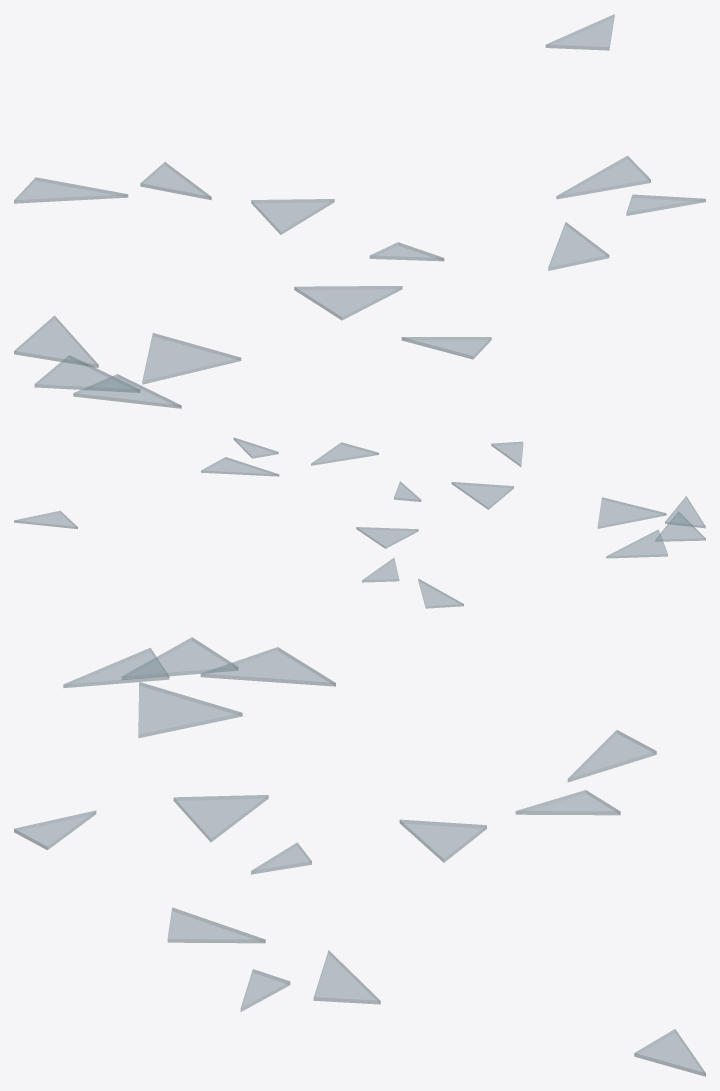
The model's file is shards.glb.
The picture shows the model from 3 angles, top to bottom: view 1: azimuth 30°, elevation 25°; view 2: azimuth 150°, elevation 25°; view 3: azimuth 270°, elevation 25°; orthographic projection. The views are drawn at different scales.
Parts seen in each view (by area): view 1: Shards; view 2: Shards; view 3: Shards.
Boxes of the visible parts, left/top/right/bottom form: Shards: left=14, top=14, right=705, bottom=408; Shards: left=14, top=437, right=705, bottom=608; Shards: left=14, top=637, right=705, bottom=1076.
Size of the model in its own units: 0.9886 by 0.004 by 0.6631.
